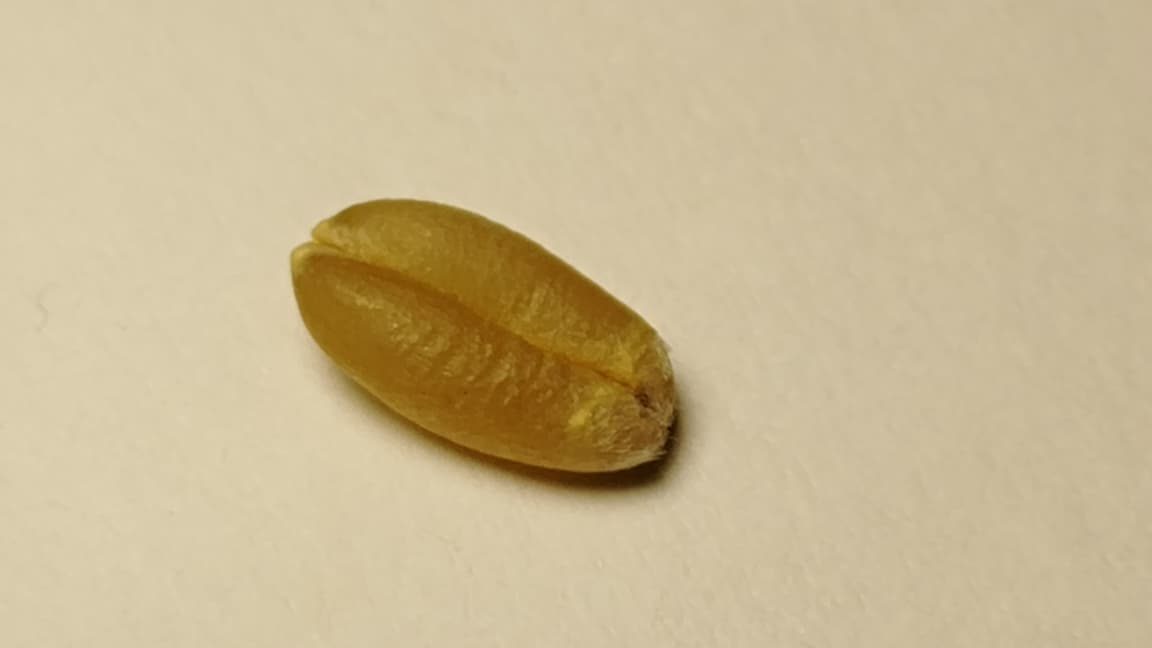healthy: (292, 199, 674, 469)
